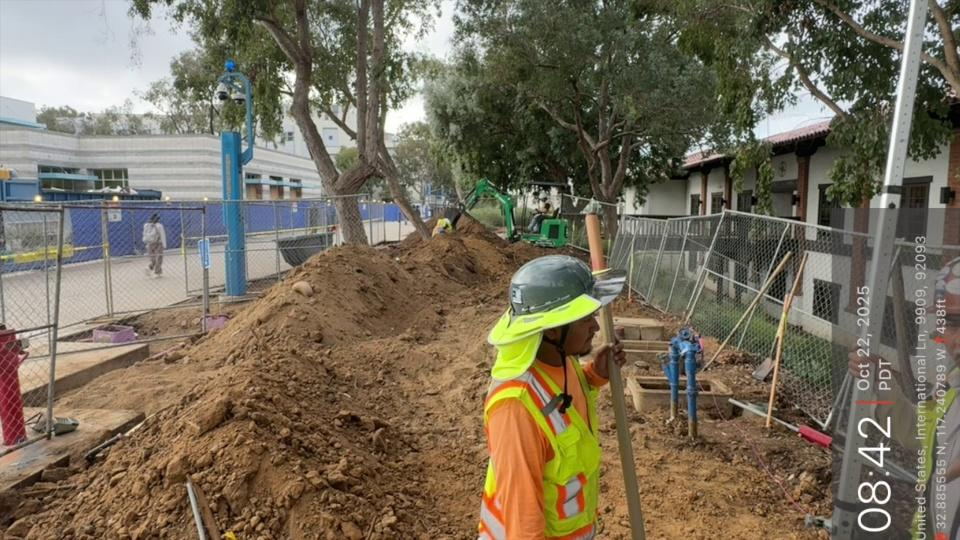Exacavator: (438, 176, 571, 249)
